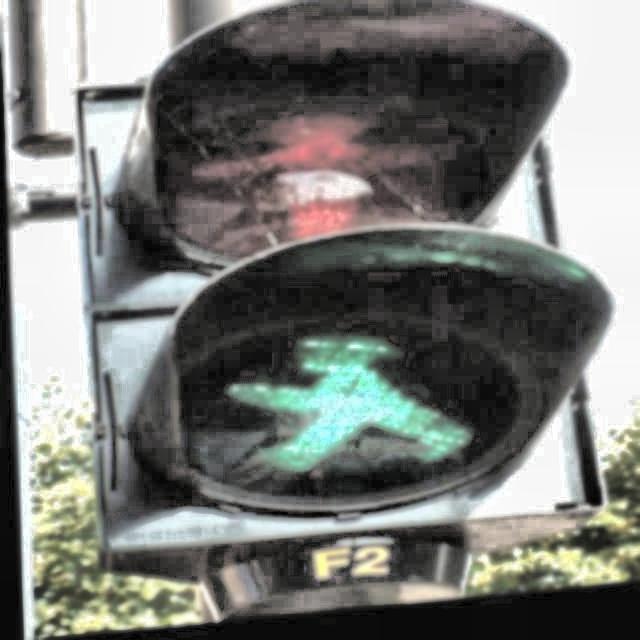semaforo pedestre: (26, 0, 633, 620)
